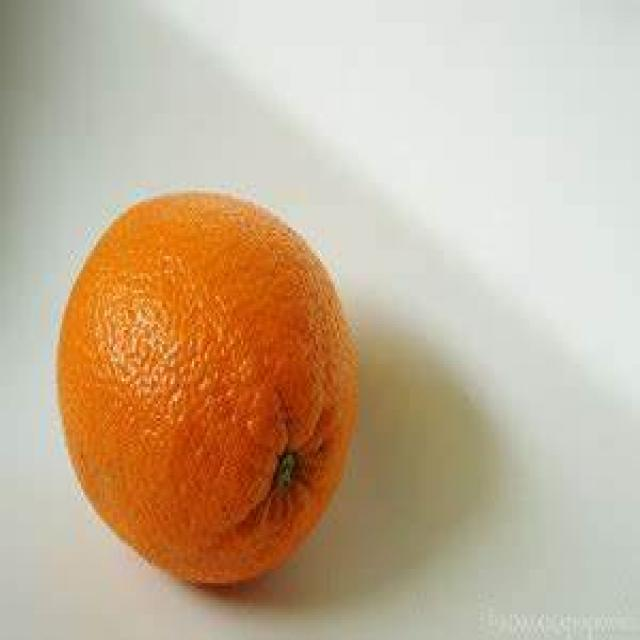Orange: (55, 189, 363, 589)
